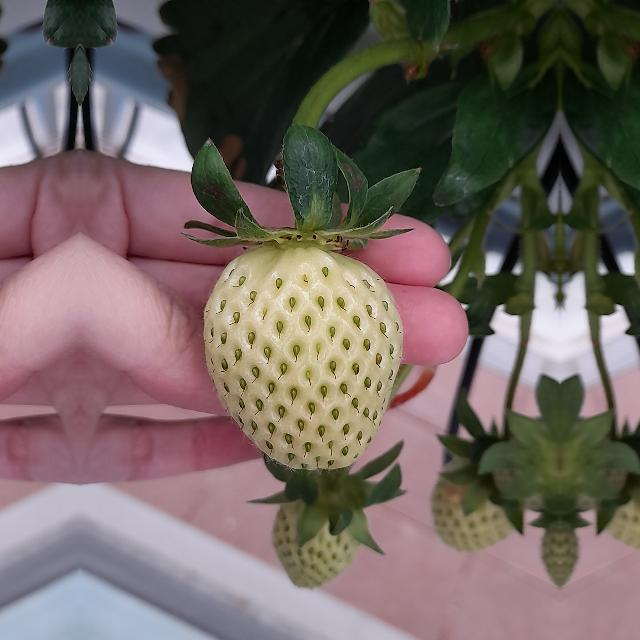Health_25: (204, 245, 402, 469), (429, 436, 518, 554), (272, 489, 356, 589), (601, 436, 640, 553)
